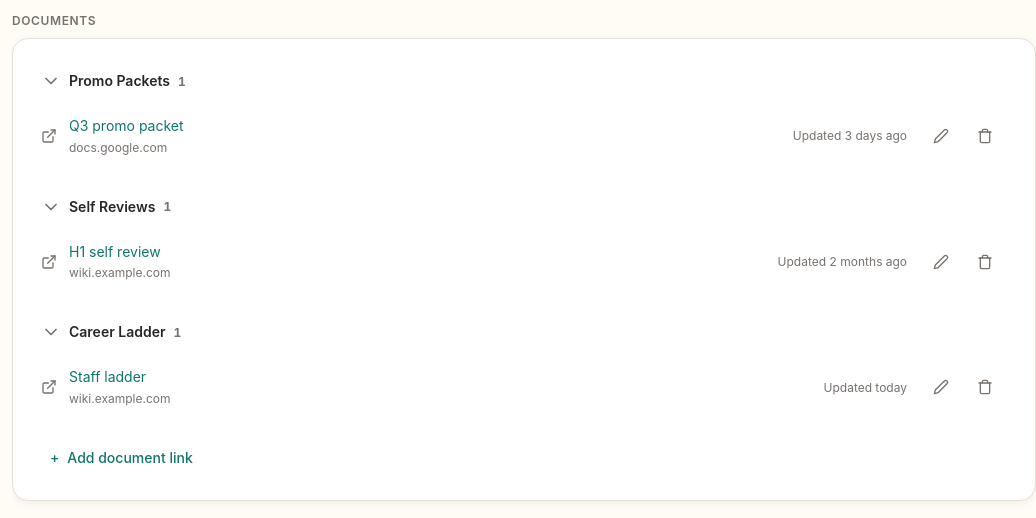
Test: DocumentLinks › collapses and expands a category from its header
Click the button "Promo Packets 1" at (120, 80), box [33,59,1015,103]
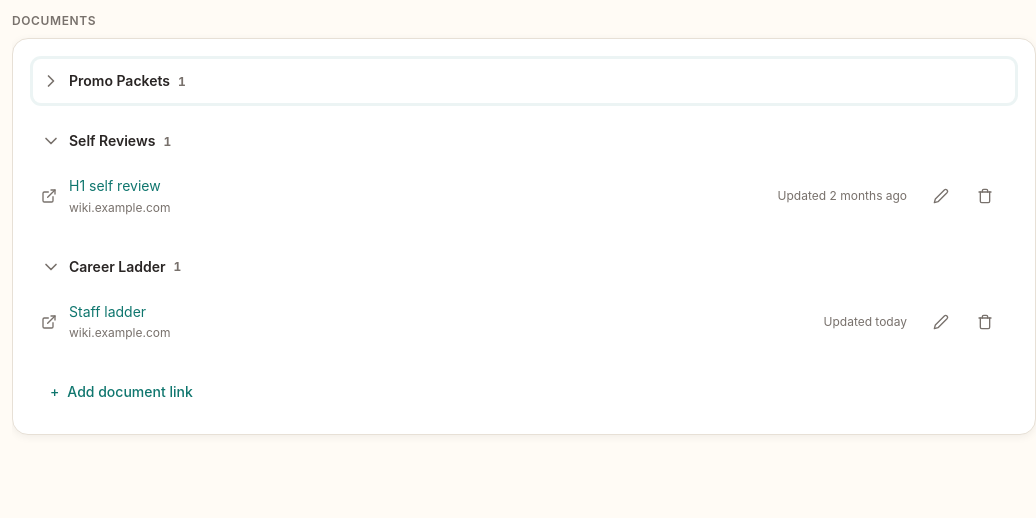
Expected: the button "Promo Packets 1" is collapsed
Click the button "Promo Packets 1" at (120, 80), box [33,59,1015,103]
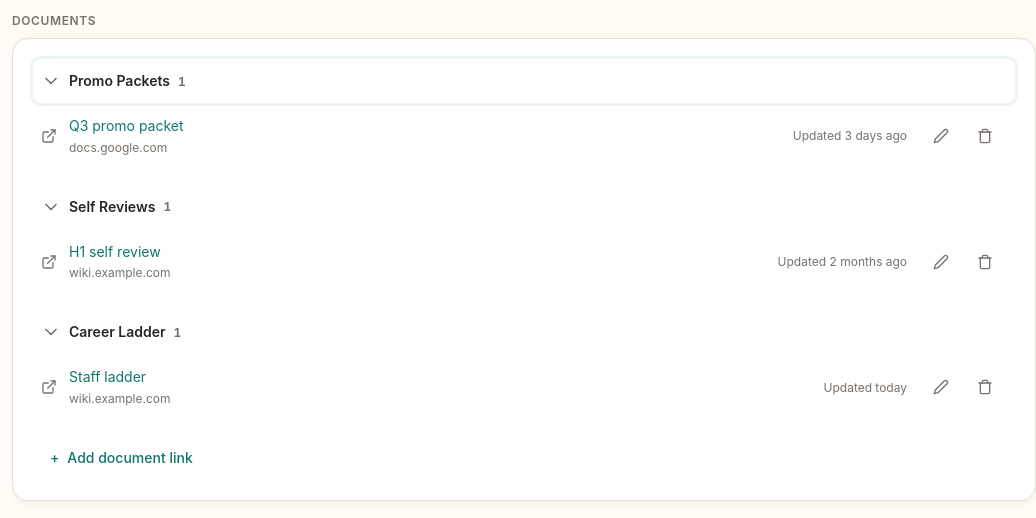
Expected: the button "Promo Packets 1" is expanded, [33,59,1015,103]
